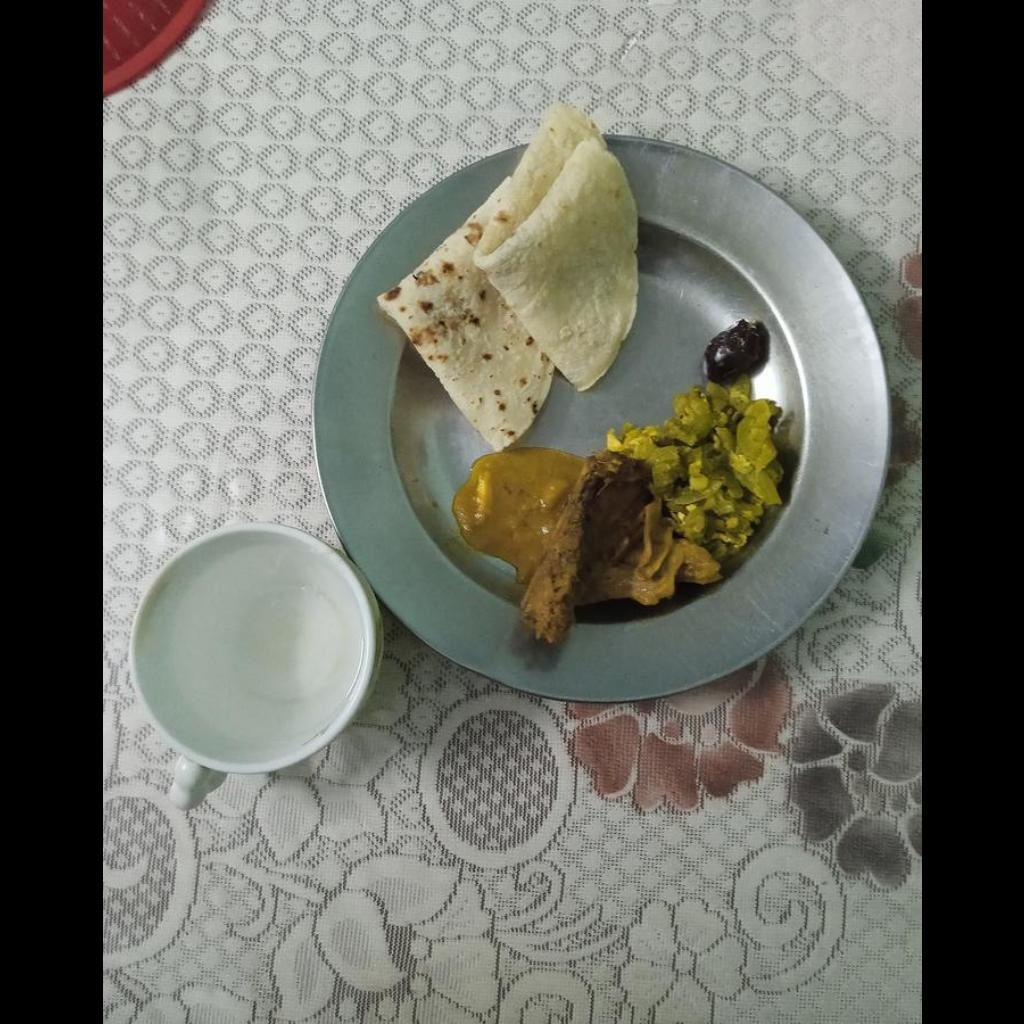chicken: (521, 452, 718, 643)
dates: (705, 319, 769, 385)
dundol: (605, 380, 781, 561)
juice: (157, 543, 364, 745)
ruti: (368, 108, 637, 444)
